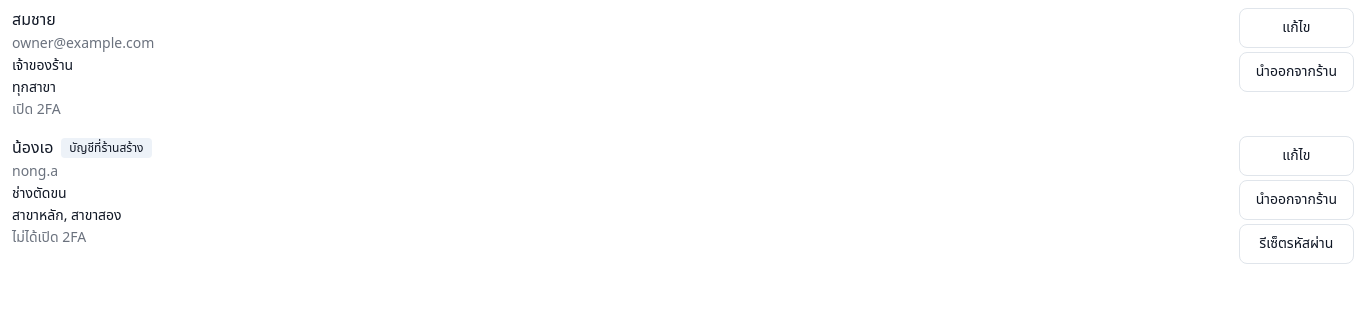
remove (#contract-staff-remove, F09) › FORBIDDEN → its message in the row
Check: the text "น้องเอ" is shown, box [12,136,53,160]
Click the button "นำออกจากร้าน" in the row of "เจ้าของร้าน". click: (1296, 72)
box: [1239,52,1354,92]
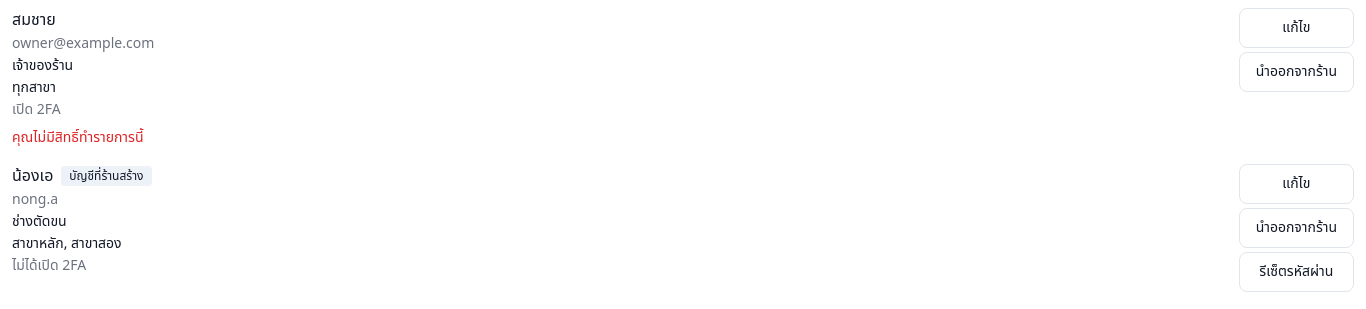
Check: the text "คุณไม่มีสิทธิ์ทำรายการนี้" is shown, box [12,127,144,148]
